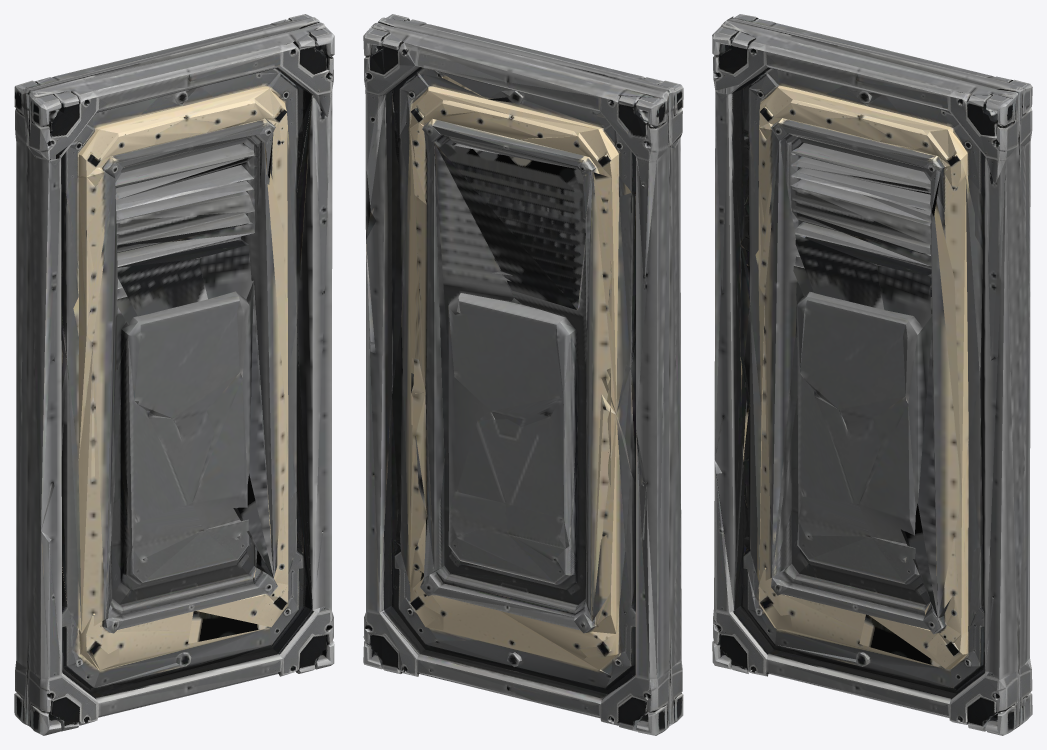
File: wall_panel_vent.glb
3 views of the same model, side by side, from view 1: azimuth 30°, elevation 25°; view 2: azimuth 150°, elevation 25°; view 3: azimuth 330°, elevation 25° (orthographic).
Parts seen in each view (by area): view 1: output_unwrapped; view 2: output_unwrapped; view 3: output_unwrapped.
Boxes of the visible parts, <box> form: output_unwrapped: <box>14,14,334,735</box>; output_unwrapped: <box>363,14,683,735</box>; output_unwrapped: <box>712,14,1032,735</box>.
Size of the model in its own units: 0.9238 by 1.9 by 0.194.
1 material, 1 textured.
